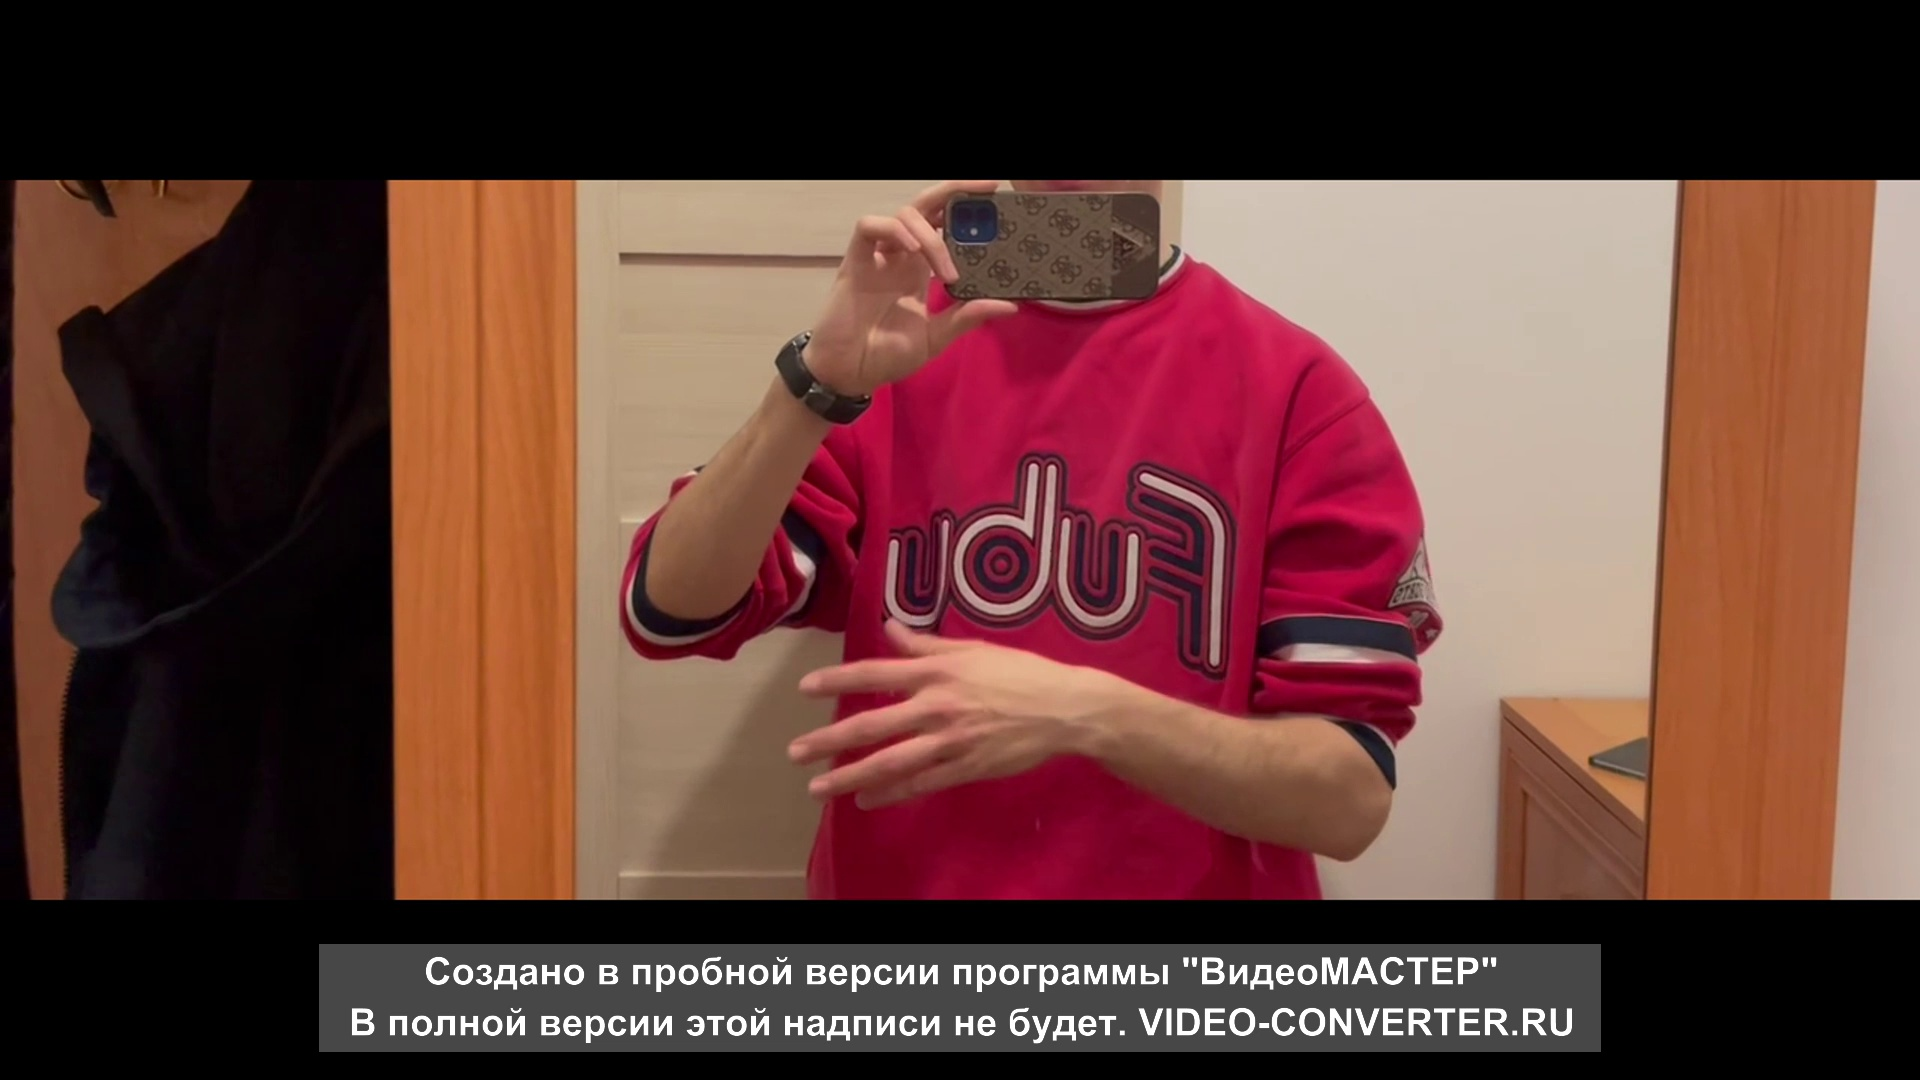Кисть: (786, 620, 1080, 814)
